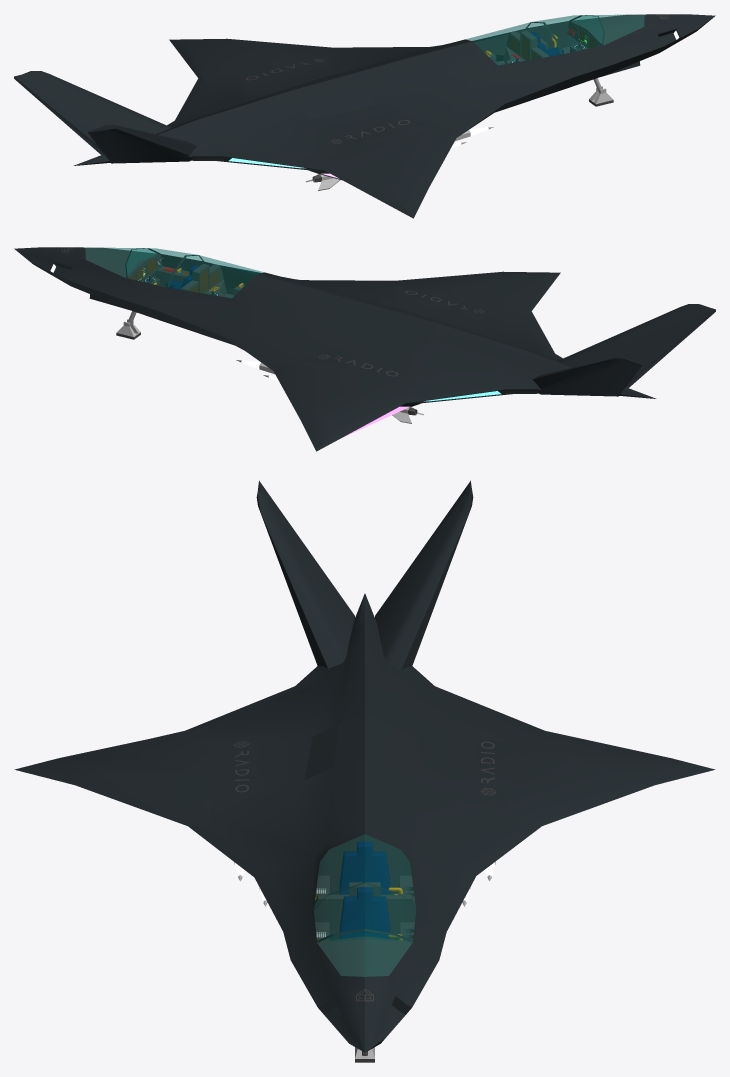
Rendered from ratio.glb.
3 renders of one model, top to bottom at view 1: azimuth 30°, elevation 25°; view 2: azimuth 150°, elevation 25°; view 3: azimuth 270°, elevation 25°, orthographic. The views are drawn at different scales.
Parts seen in each view (by area): view 1: Cube, Cube.001, leftElev, Cube.002, rightElev, Cube.003, Cube.006, Cube.028, Cube.027, Cube.008, Cylinder.004; view 2: Cube, Cube.002, rightElev, Cube.001, leftElev, Cube.003, Cube.006, Cube.004, Cube.005, Cube.008; view 3: Cube, Cube.002, Cube.001, leftElev, rightElev, Cube.003, Cube.006, Cube.008, frontChair, rearChair, Cube.005, Cube.027 (+2 smaller).
Boxes of the visible parts, left/top/right/bottom form: Cube: left=73, top=14, right=715, bottom=170; Cube.001: left=309, top=128, right=456, bottom=218; leftElev: left=14, top=71, right=171, bottom=154; Cube.002: left=169, top=38, right=340, bottom=80; rightElev: left=87, top=125, right=196, bottom=163; Cube.003: left=466, top=22, right=562, bottom=65; Cube.006: left=528, top=15, right=603, bottom=53; Cube.028: left=300, top=88, right=375, bottom=119; Cube.027: left=291, top=73, right=365, bottom=104; Cube.008: left=503, top=30, right=548, bottom=63; Cylinder.004: left=306, top=142, right=466, bottom=190; Cube: left=14, top=247, right=656, bottom=403; Cube.002: left=273, top=361, right=420, bottom=451; rightElev: left=558, top=304, right=715, bottom=387; Cube.001: left=389, top=271, right=560, bottom=313; leftElev: left=532, top=358, right=642, bottom=396; Cube.003: left=167, top=255, right=263, bottom=298; Cube.006: left=126, top=248, right=201, bottom=286; Cube.004: left=354, top=321, right=429, bottom=352; Cube.005: left=364, top=306, right=438, bottom=337; Cube.008: left=156, top=263, right=226, bottom=296; Cube: left=186, top=593, right=543, bottom=1052; Cube.002: left=519, top=726, right=715, bottom=825; Cube.001: left=14, top=726, right=210, bottom=825; leftElev: left=374, top=480, right=473, bottom=669; rightElev: left=256, top=480, right=355, bottom=668; Cube.003: left=314, top=834, right=415, bottom=908; Cube.006: left=314, top=883, right=415, bottom=940; Cube.008: left=313, top=882, right=416, bottom=941; frontChair: left=339, top=887, right=390, bottom=938; rearChair: left=339, top=841, right=390, bottom=894; Cube.005: left=365, top=714, right=395, bottom=766; Cube.027: left=334, top=714, right=364, bottom=766.
Bounding box in the file's own units: 21.94 × 4.28 × 13.98.
